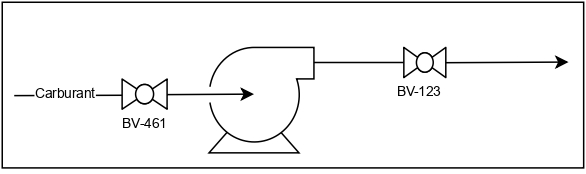valve: (116, 73, 173, 116), (396, 41, 453, 83)
